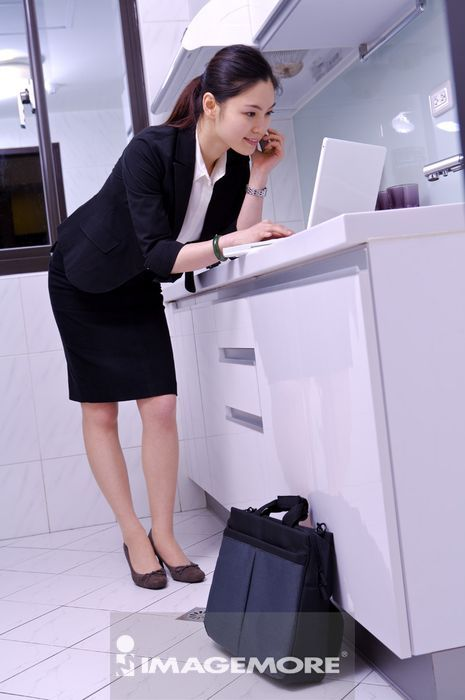talk: (238, 99, 286, 186)
